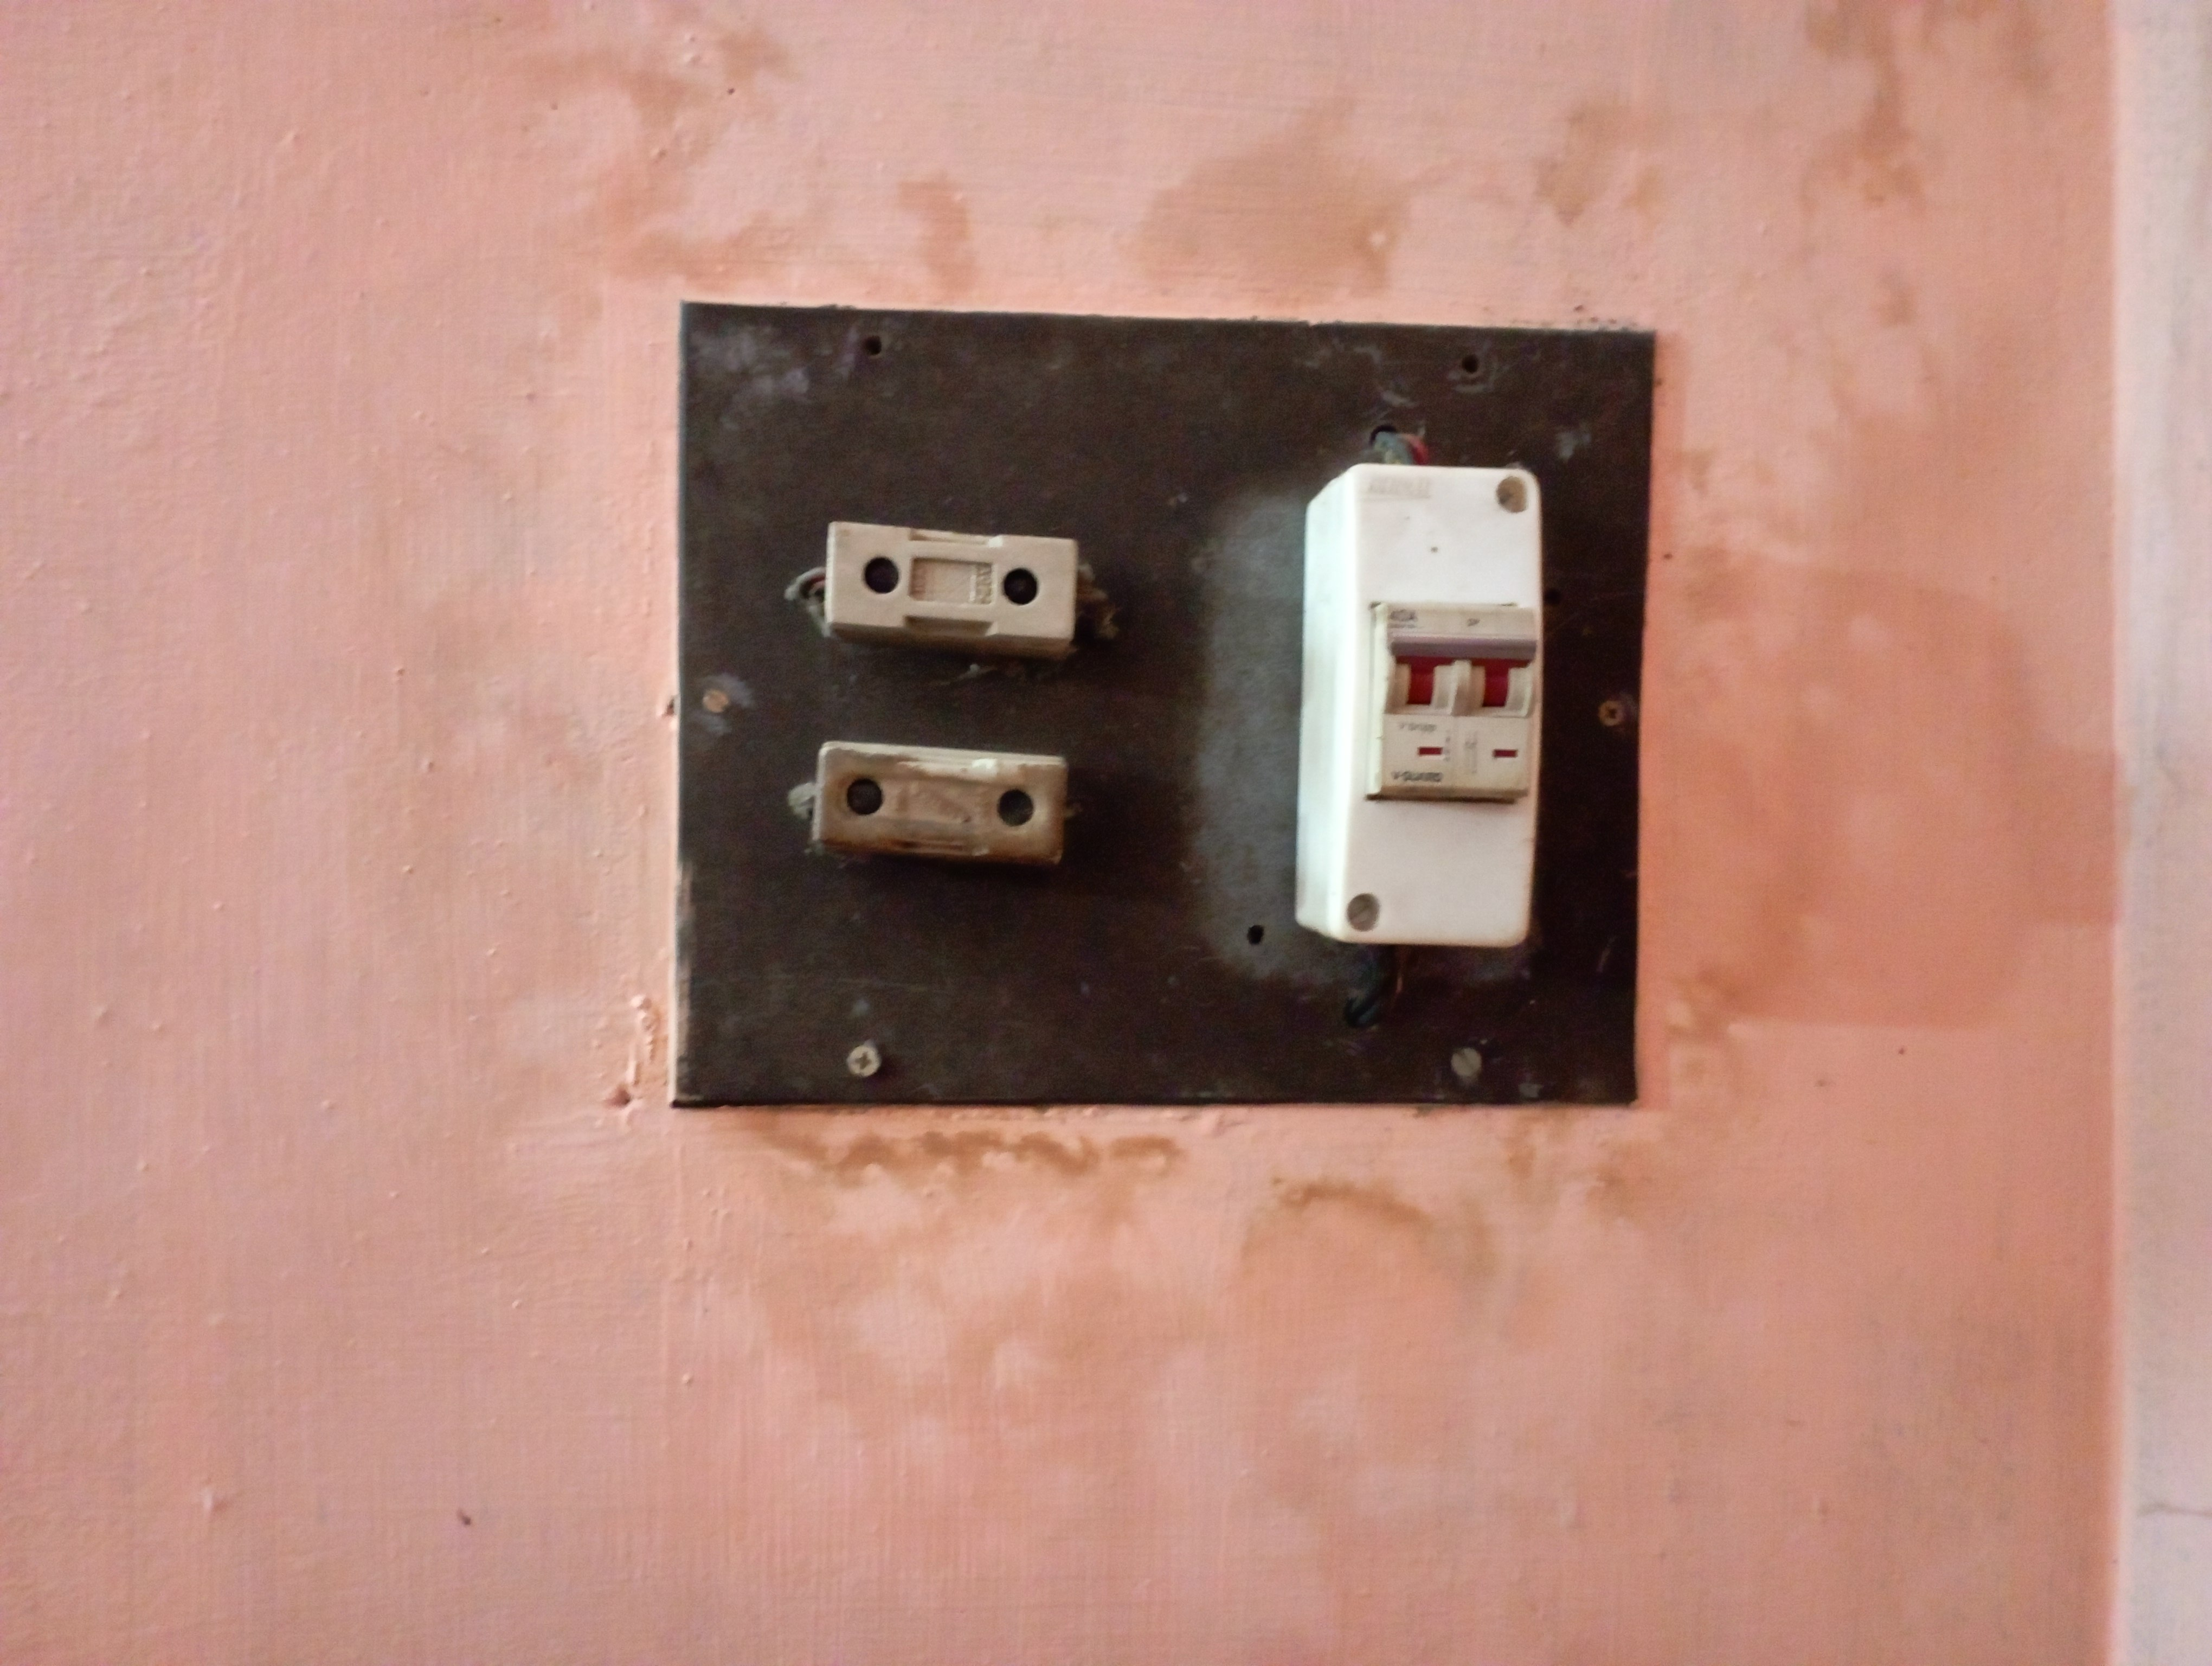ciruit_breaker: (1289, 455, 1558, 964)
fuse: (803, 725, 1084, 893), (808, 504, 1095, 661)
